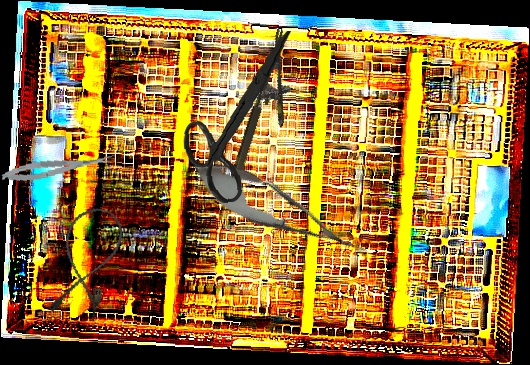Cannula: (44, 201, 129, 325)
Iris Scissors: (175, 30, 304, 206)
Micro Scissor: (181, 146, 377, 275), (0, 151, 117, 185)
Needle Holder: (222, 27, 311, 211)
